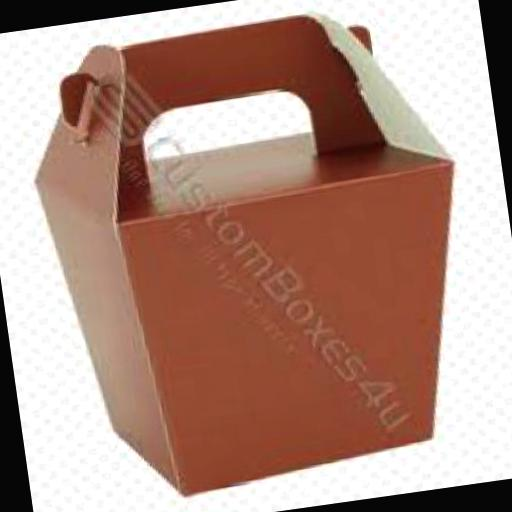cardboard: (10, 0, 493, 511)
